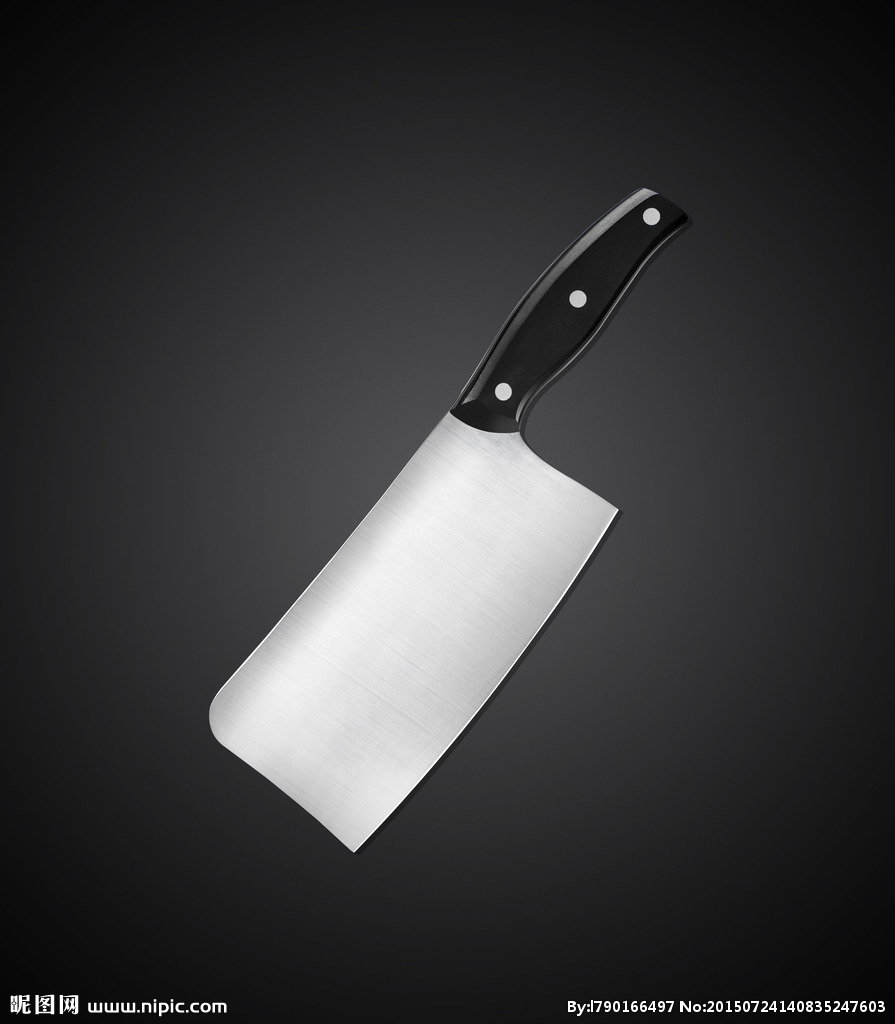knief: (177, 142, 703, 881)
